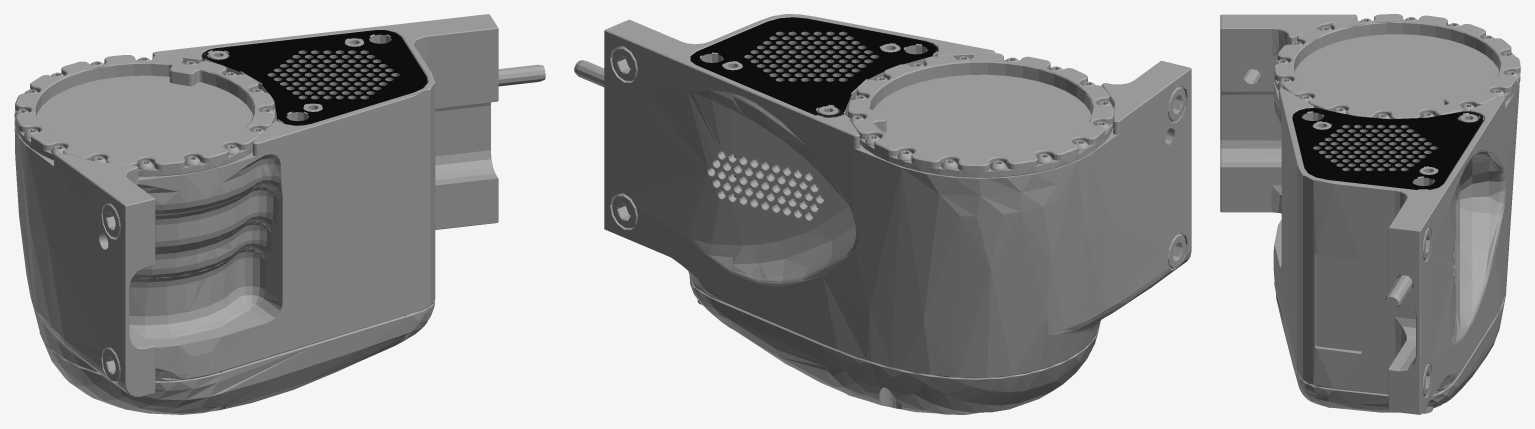
The model's file is hip-roll-housing.obj.
3 renders of one model, left to right at view 1: azimuth 30°, elevation 25°; view 2: azimuth 150°, elevation 25°; view 3: azimuth 270°, elevation 25°, orthographic. The views are drawn at different scales.
Parts seen in each view (by area): view 1: hip-roll-housing; view 2: hip-roll-housing; view 3: hip-roll-housing.
Part boxes in pixels (box(x1,y1,x2,y2)): hip-roll-housing: box(14, 14, 545, 414); hip-roll-housing: box(574, 14, 1191, 414); hip-roll-housing: box(1220, 14, 1520, 414).
Bounding box in the file's own units: 0.1671 × 0.0889 × 0.09.
Materials: 1 (1 with a texture image).
